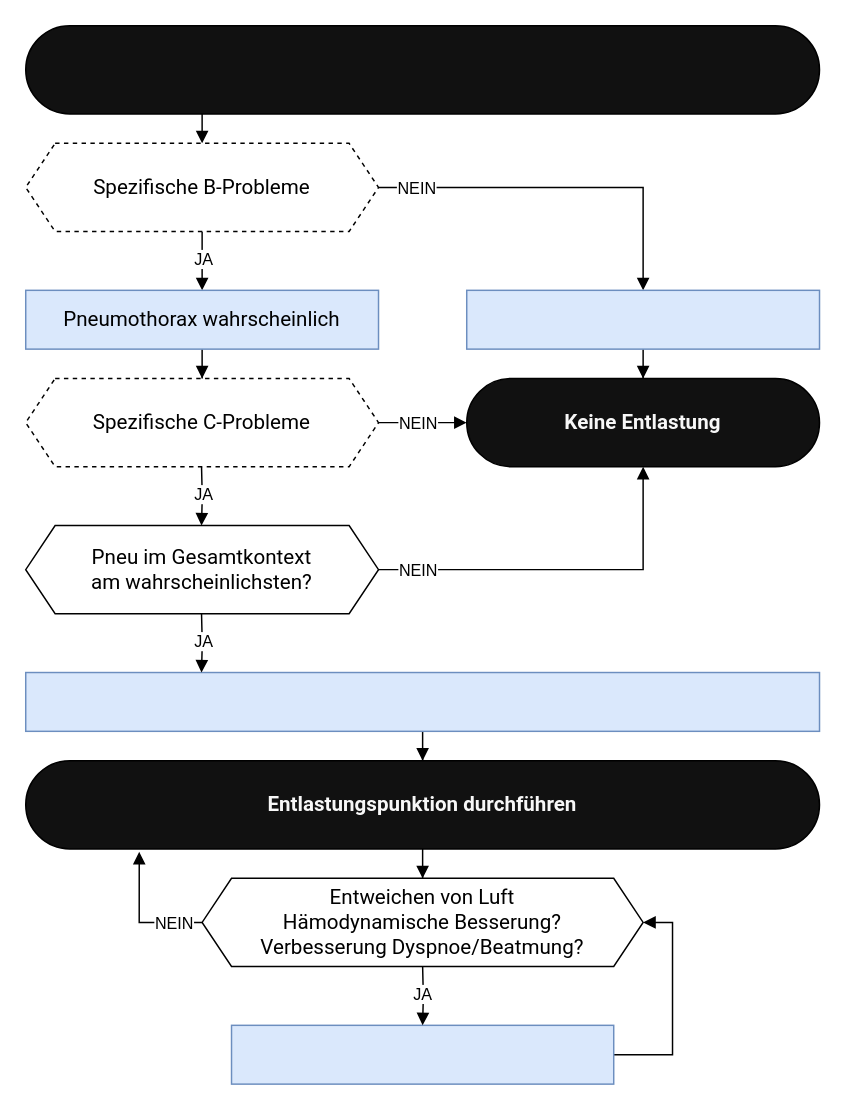
Some shapes in this 845 by 1110 pixel diagram are drawn without their labels. Each missing label, with the centre of its shape:
Kontinuierliche Beurteilung: point 422,1054
Pneumothorax un wahrscheinlich: point 642,319
Spannungspneumothorax wahrscheinlich: point 422,701
Verdacht Spannungspneumothorax: point 422,69
